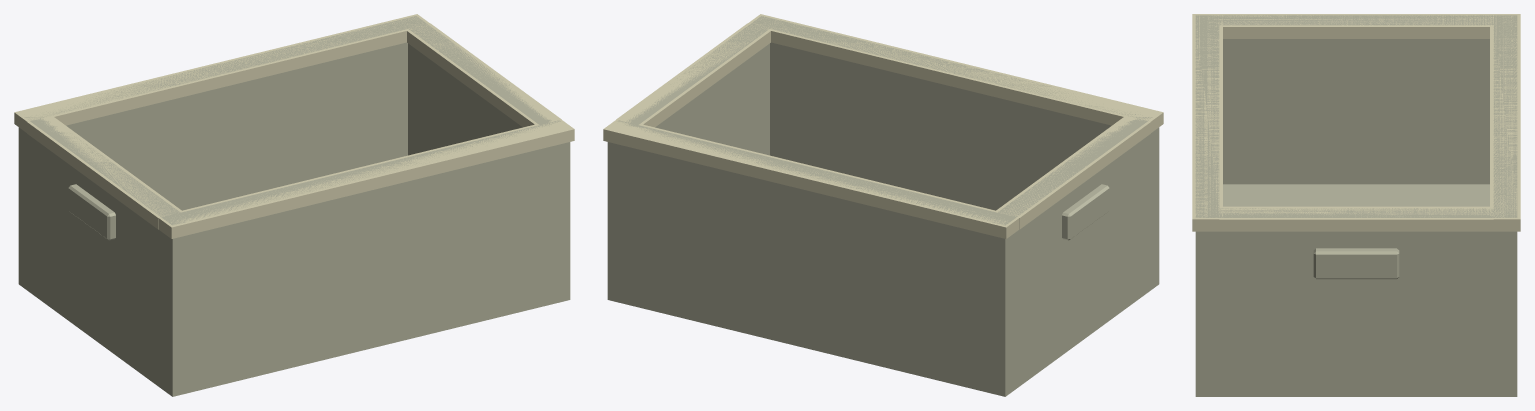
The model's file is vessel-foam.glb.
3 renders of one model, left to right at view 1: azimuth 30°, elevation 25°; view 2: azimuth 150°, elevation 25°; view 3: azimuth 270°, elevation 25°, orthographic. The views are drawn at different scales.
Parts seen in each view (by area): view 1: vessel-foam/front-complete-wall, vessel-foam/back-complete-wall, vessel-foam/left-complete-wall, vessel-foam/front-top-rim, vessel-foam/back-top-rim, vessel-foam/right-complete-wall, vessel-foam/end-top-rim--1, vessel-foam/drained-floor-panel-0-0, vessel-foam/end-top-rim-1, vessel-foam/drained-floor-panel-2-0, vessel-foam/drained-floor-panel-4-0, vessel-foam/thick-end-grip--1 (+1 smaller); view 2: vessel-foam/back-complete-wall, vessel-foam/front-complete-wall, vessel-foam/left-complete-wall, vessel-foam/front-top-rim, vessel-foam/back-top-rim, vessel-foam/right-complete-wall, vessel-foam/end-top-rim-1, vessel-foam/drained-floor-panel-0-2, vessel-foam/end-top-rim--1, vessel-foam/drained-floor-panel-2-2, vessel-foam/drained-floor-panel-4-2, vessel-foam/thick-end-grip--1 (+1 smaller); view 3: vessel-foam/left-complete-wall, vessel-foam/right-complete-wall, vessel-foam/front-complete-wall, vessel-foam/back-complete-wall, vessel-foam/end-top-rim-1, vessel-foam/end-top-rim--1, vessel-foam/back-top-rim, vessel-foam/front-top-rim, vessel-foam/drained-floor-panel-4-0, vessel-foam/drained-floor-panel-4-2, vessel-foam/drained-floor-panel-0-0, vessel-foam/drained-floor-panel-0-2 (+3 smaller).
Boxes of the visible parts, x1,y1,x2,y2 form: vessel-foam/front-complete-wall: (161,120,570,377); vessel-foam/back-complete-wall: (18,16,426,272); vessel-foam/left-complete-wall: (30,118,180,369); vessel-foam/front-top-rim: (157,119,574,238); vessel-foam/back-top-rim: (14,14,431,132); vessel-foam/right-complete-wall: (408,24,551,155); vessel-foam/end-top-rim--1: (27,115,183,229); vessel-foam/drained-floor-panel-0-0: (100,325,279,396); vessel-foam/end-top-rim-1: (406,23,561,127); vessel-foam/drained-floor-panel-2-0: (295,311,447,366); vessel-foam/drained-floor-panel-4-0: (463,281,570,325); vessel-foam/thick-end-grip--1: (68,184,115,240); vessel-foam/back-complete-wall: (607,120,1016,377); vessel-foam/front-complete-wall: (751,16,1159,272); vessel-foam/left-complete-wall: (998,119,1147,369); vessel-foam/front-top-rim: (746,14,1163,132); vessel-foam/back-top-rim: (603,119,1019,238); vessel-foam/right-complete-wall: (626,24,769,155); vessel-foam/end-top-rim-1: (616,23,771,127); vessel-foam/drained-floor-panel-0-2: (898,325,1077,396); vessel-foam/end-top-rim--1: (994,115,1150,229); vessel-foam/drained-floor-panel-2-2: (730,311,882,366); vessel-foam/drained-floor-panel-4-2: (607,281,714,325); vessel-foam/thick-end-grip--1: (1062,184,1109,240); vessel-foam/left-complete-wall: (1219,15,1493,184); vessel-foam/right-complete-wall: (1219,208,1493,376); vessel-foam/front-complete-wall: (1195,15,1219,376); vessel-foam/back-complete-wall: (1493,15,1517,376); vessel-foam/end-top-rim-1: (1219,206,1493,231); vessel-foam/end-top-rim--1: (1219,14,1492,38); vessel-foam/back-top-rim: (1490,14,1520,231); vessel-foam/front-top-rim: (1192,14,1222,231); vessel-foam/drained-floor-panel-4-0: (1195,377,1346,396); vessel-foam/drained-floor-panel-4-2: (1366,377,1517,396); vessel-foam/drained-floor-panel-0-0: (1223,184,1346,206); vessel-foam/drained-floor-panel-0-2: (1366,184,1489,206).
Size of the model in its own units: 0.634 by 0.251 by 0.418.
Materials: 2 (2 with a texture image).
